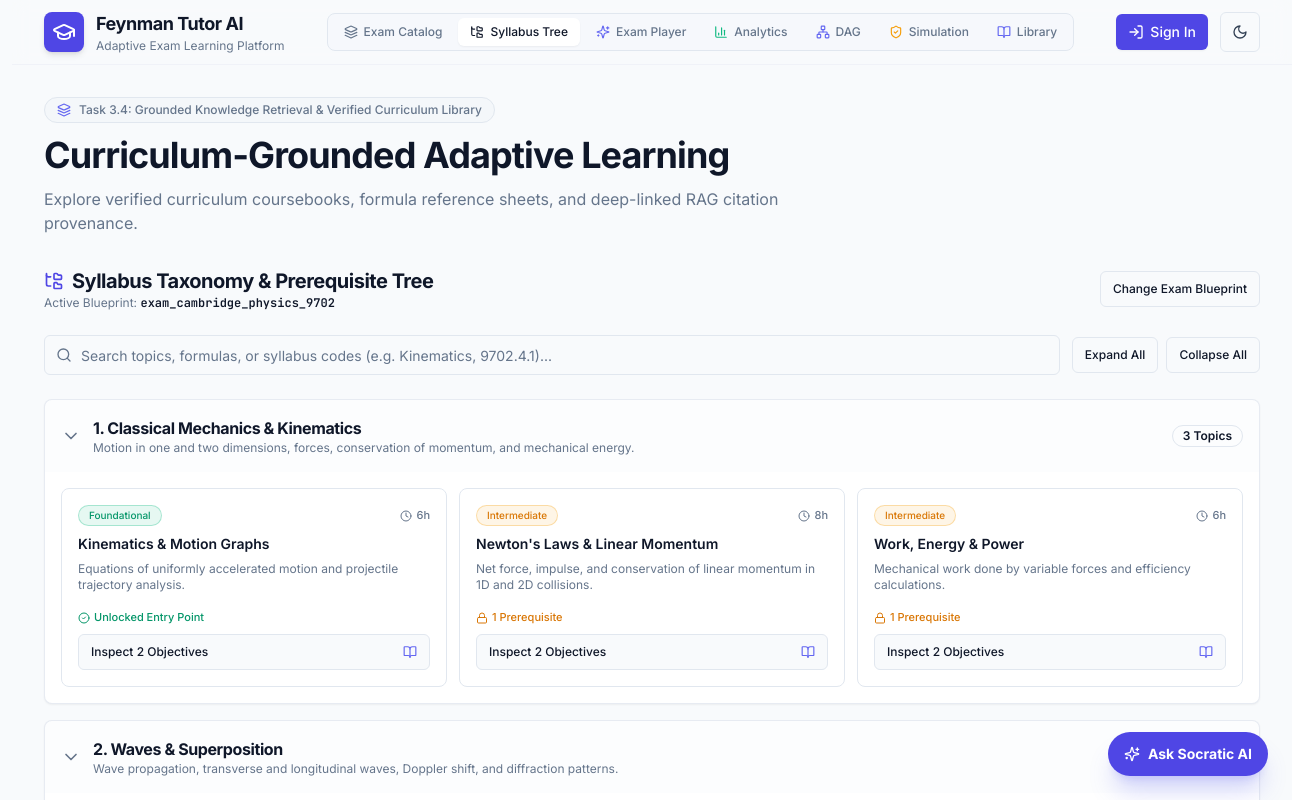
Interactive Misconception DAG Suite › renders the interactive DAG canvas and node inspector
This screenshot has width=1292, height=800.
Click the button "DAG" at {"x": 838, "y": 32}, box 804,18 -> 873,46
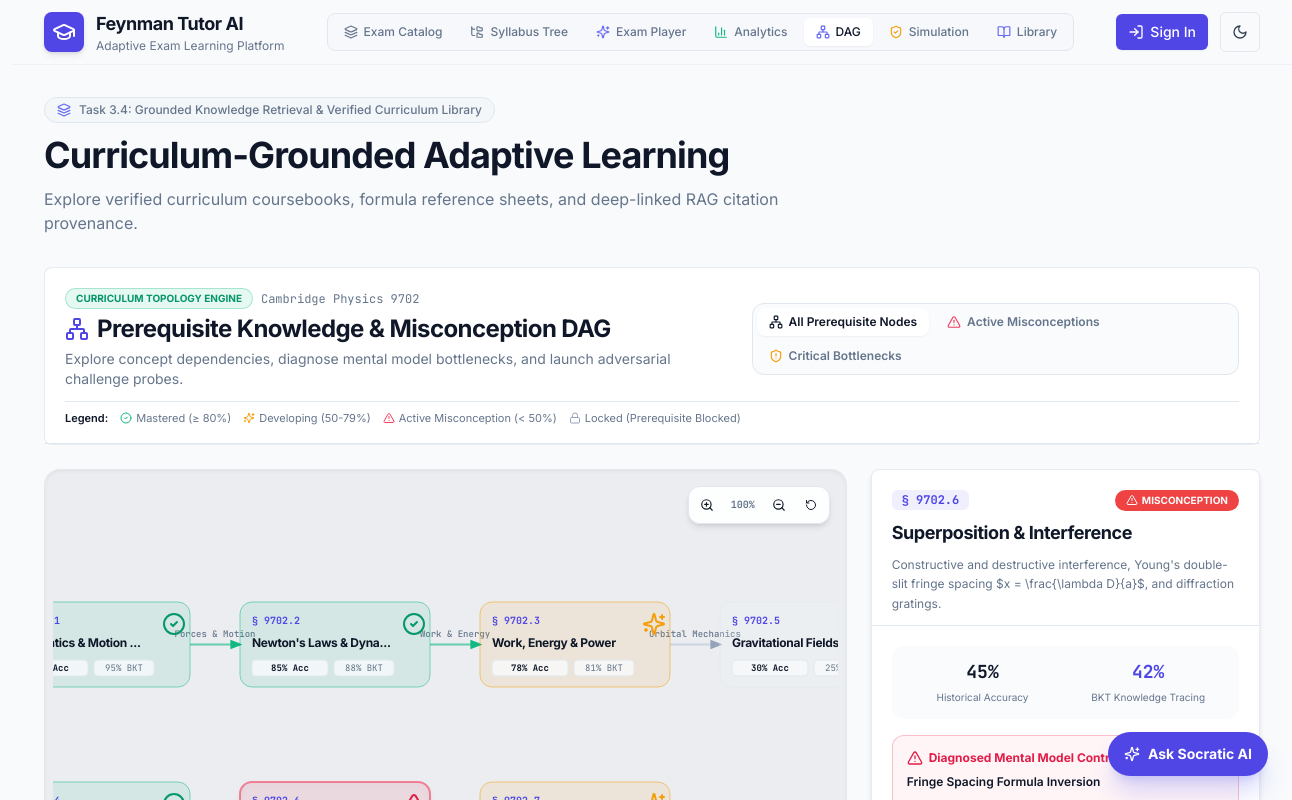
Expected: the heading "Superposition & Interference" is shown, 892,522 -> 1132,542
Result: the heading "Prerequisite Knowledge & Misconception DAG" is shown at 65,314 -> 611,343
Result: the text "Fringe Spacing Formula Inversion" is shown at 907,774 -> 1100,789
